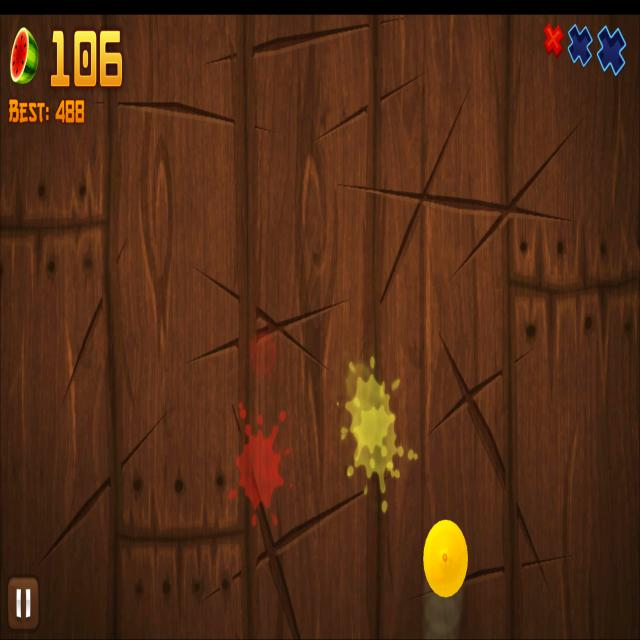fruit: (423, 517, 469, 598)
